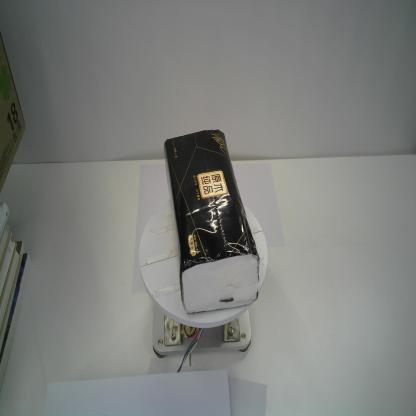Tissue: (163, 129, 260, 314)
